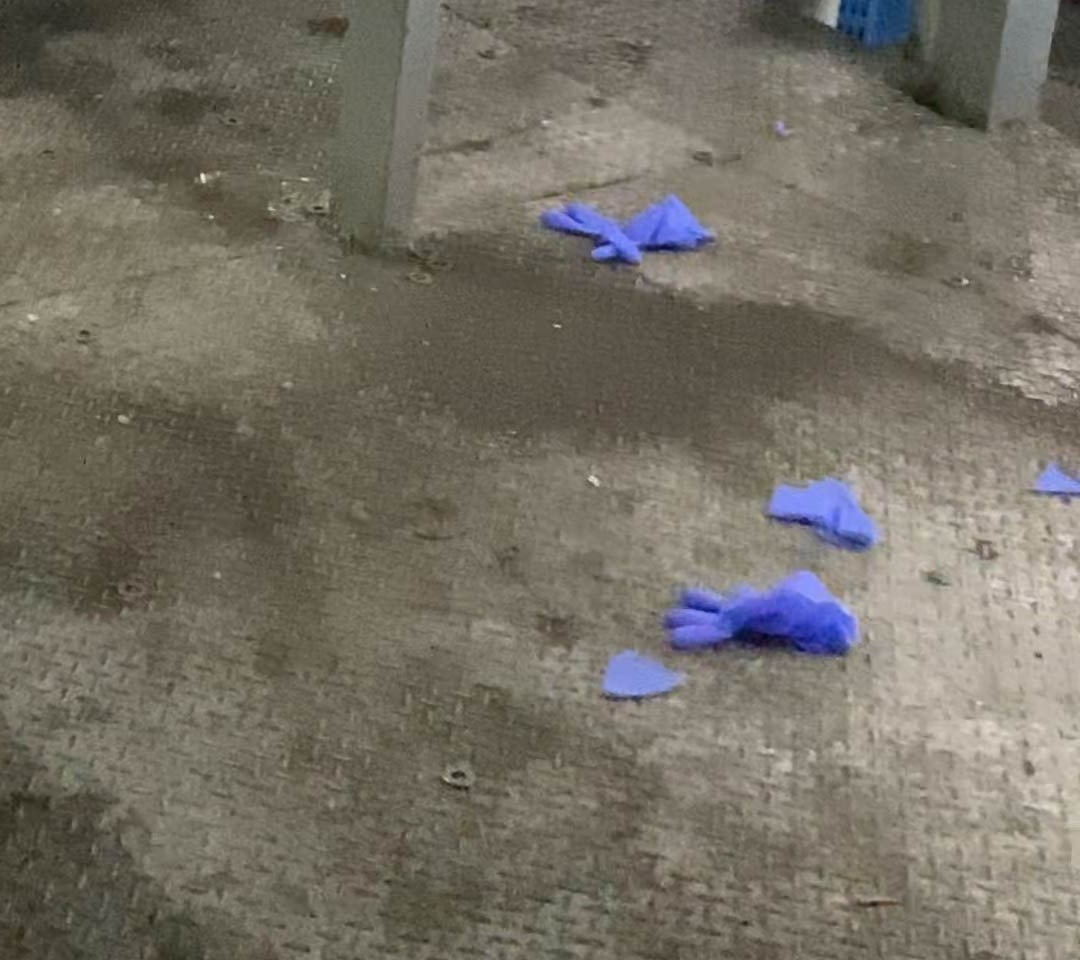glove: (658, 569, 858, 661), (538, 190, 710, 263)
